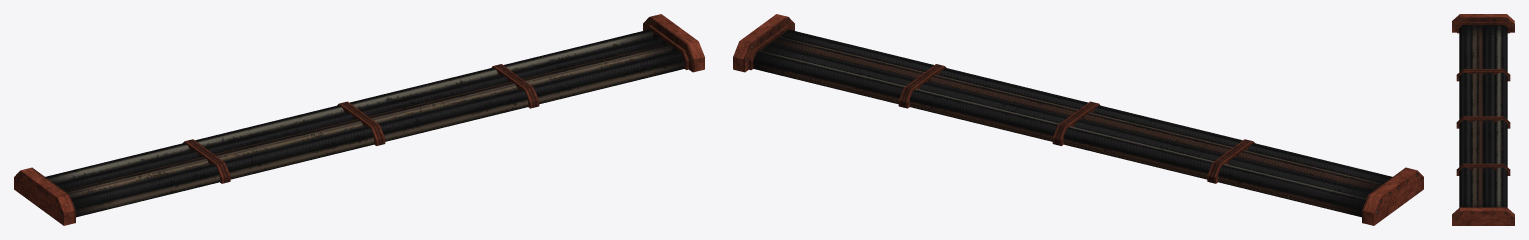
Rendered from cables_wall.dae.
3 renders of one model, left to right at view 1: azimuth 30°, elevation 25°; view 2: azimuth 150°, elevation 25°; view 3: azimuth 270°, elevation 25°, orthographic. The views are drawn at different scales.
Visible parts, largest first — view 1: polySurface831; view 2: polySurface831; view 3: polySurface831.
Part boxes in pixels (<box>): polySurface831: <box>14,14,704,225</box>; polySurface831: <box>733,14,1423,225</box>; polySurface831: <box>1452,14,1514,225</box>.
Size of the model in its own units: 4 by 0.1413 by 0.5389.
